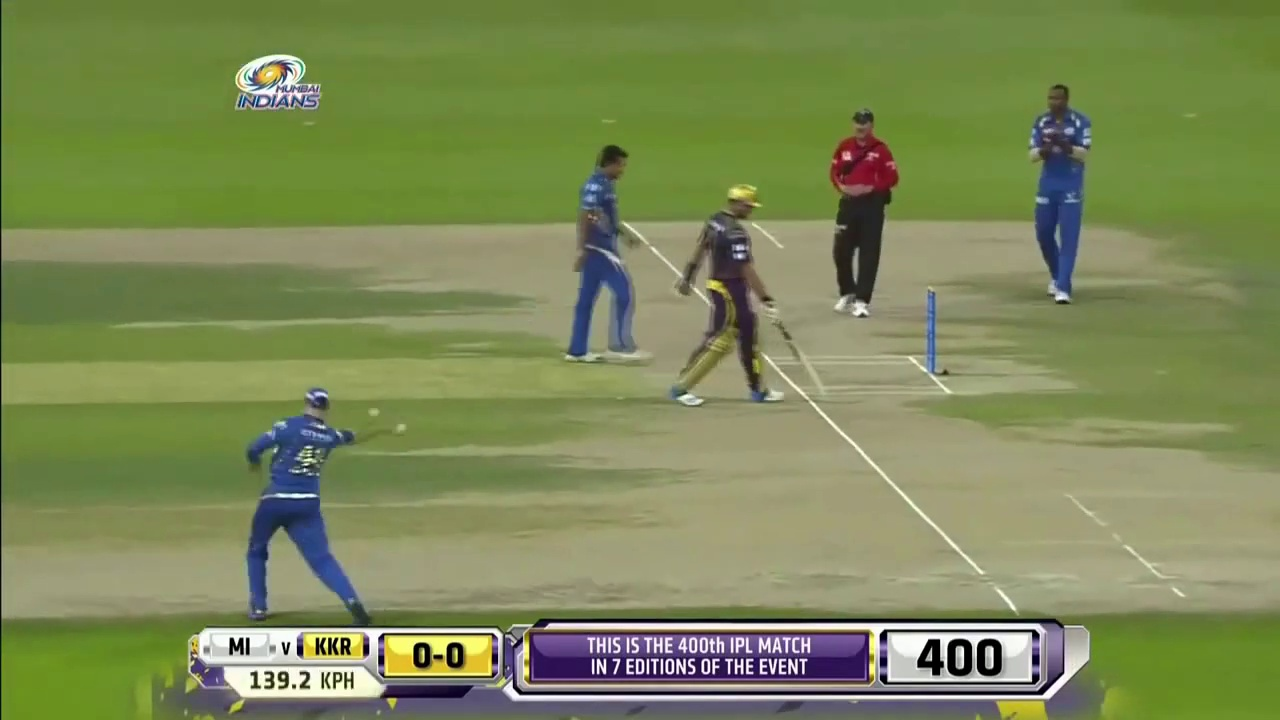bat: (777, 321, 827, 397)
